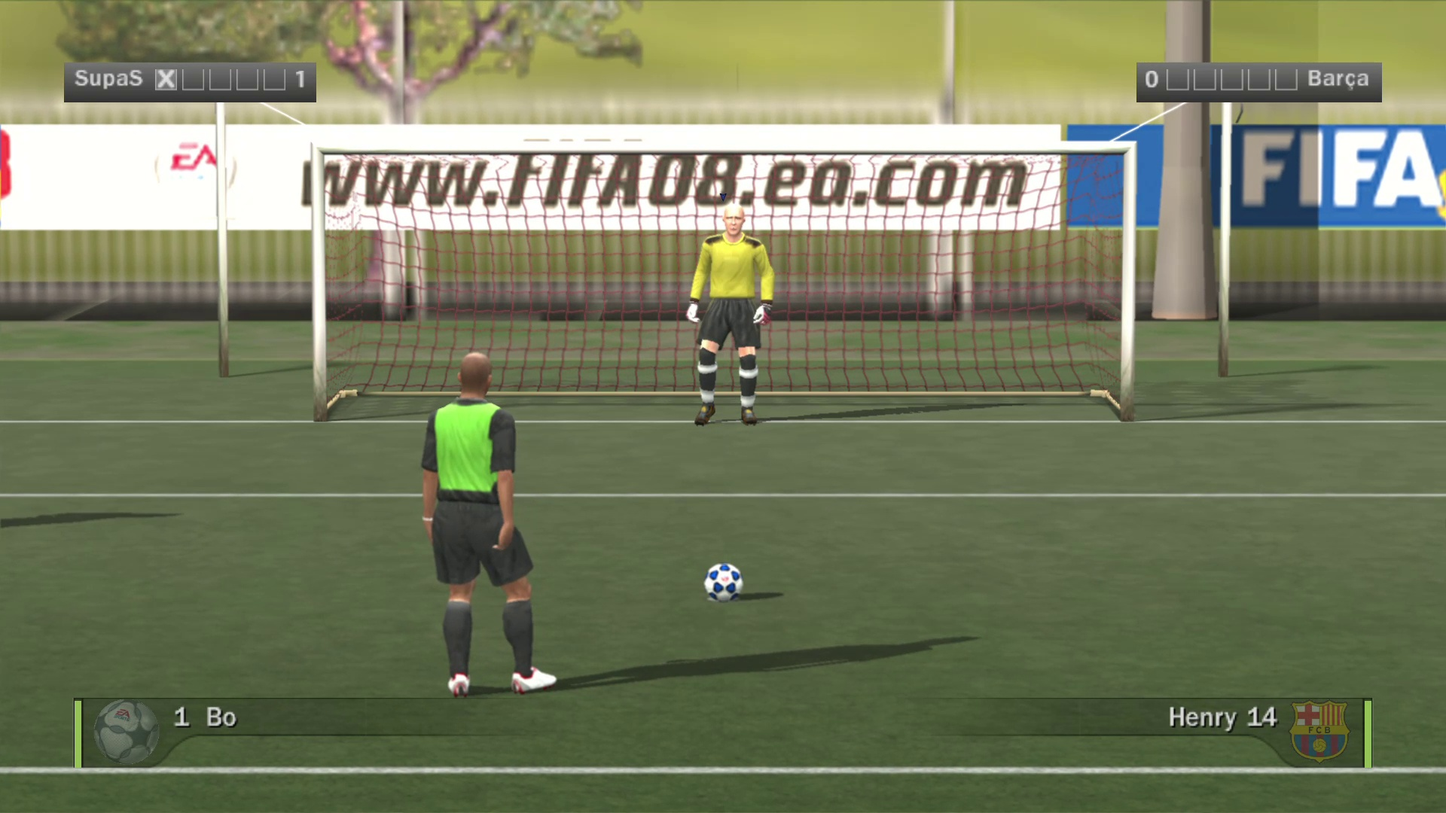ball: (678, 532, 725, 577)
goal_post: (0, 24, 725, 290)
keeper: (638, 96, 732, 314)
kicker: (347, 175, 490, 518)
